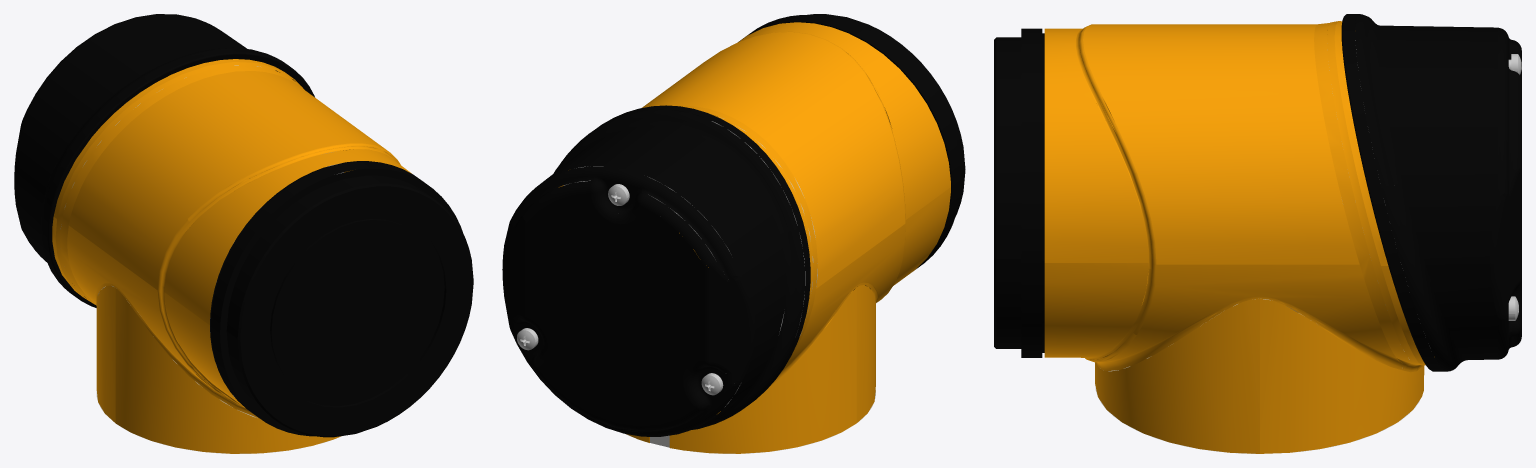
3 renders of one model, left to right at view 1: azimuth 30°, elevation 25°; view 2: azimuth 150°, elevation 25°; view 3: azimuth 270°, elevation 25°, orthographic. The views are drawn at different scales.
Parts seen in each view (by area): view 1: mesh; view 2: mesh; view 3: mesh.
Boxes of the visible parts, x1,y1,x2,y2 form: mesh: (14, 14, 473, 453); mesh: (502, 14, 965, 453); mesh: (994, 14, 1521, 453).
Size of the model in its own units: 0.0815 by 0.1201 by 0.089.
